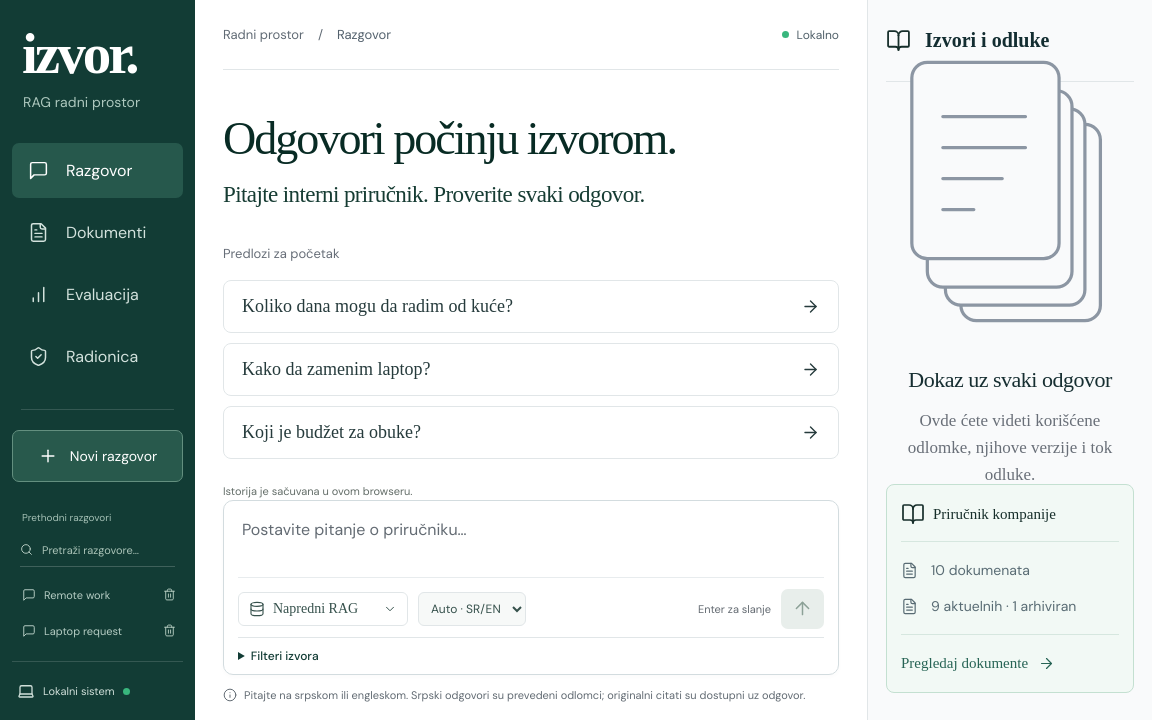
it: real UI contracts › filters, removes and restores a local conversation
This screenshot has width=1152, height=720.
Type "Laptop" into the field labelled "Pretraži razgovore".
click(108, 550); type("Laptop")  # box [40, 542, 175, 558]
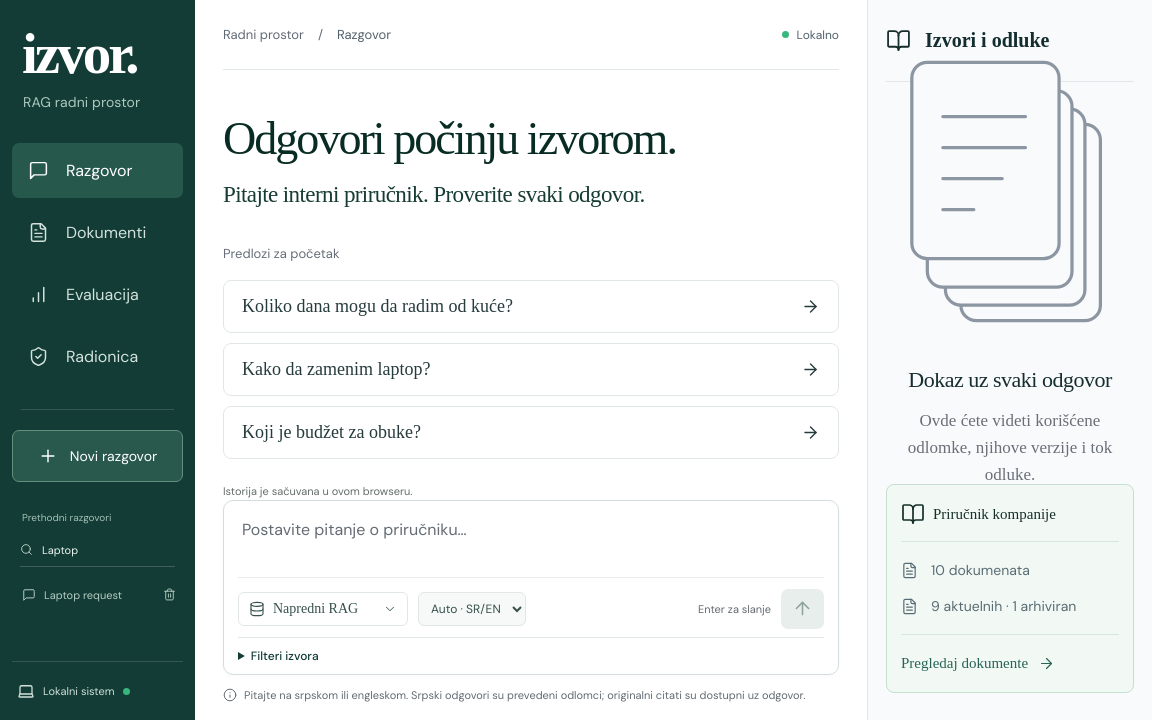
Now the button "Remote work" is gone
Click the button named "Ukloni razgovor: Laptop request".
click(169, 595)  # box [155, 580, 183, 609]
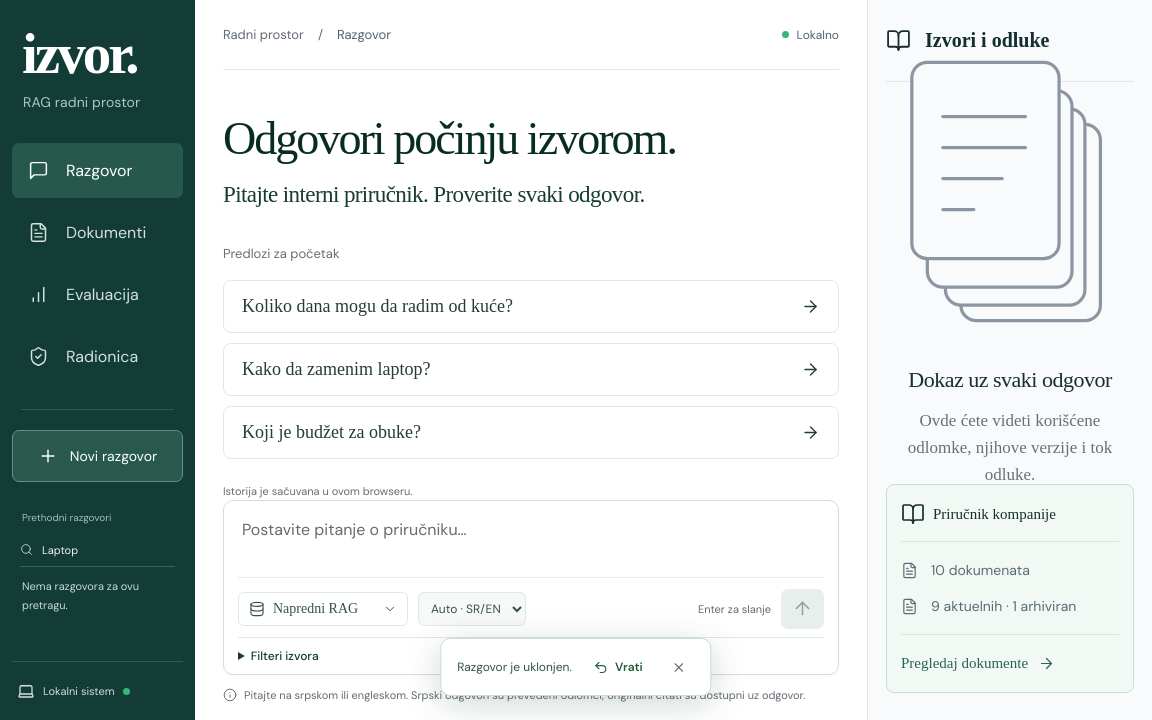
Now the text "Razgovor je uklonjen." is shown, box [457, 659, 572, 675]
Click the button "Vrati".
click(618, 667)  # box [589, 651, 647, 683]
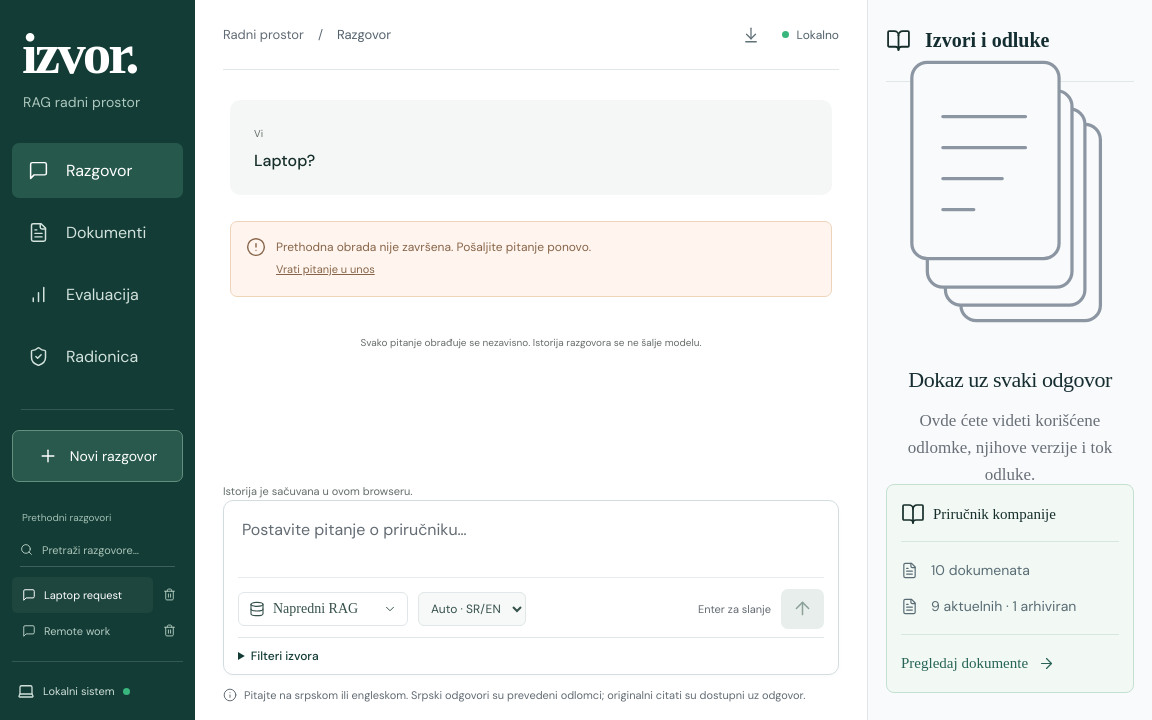
Now the button "Laptop request" is shown, box [12, 577, 153, 613]
